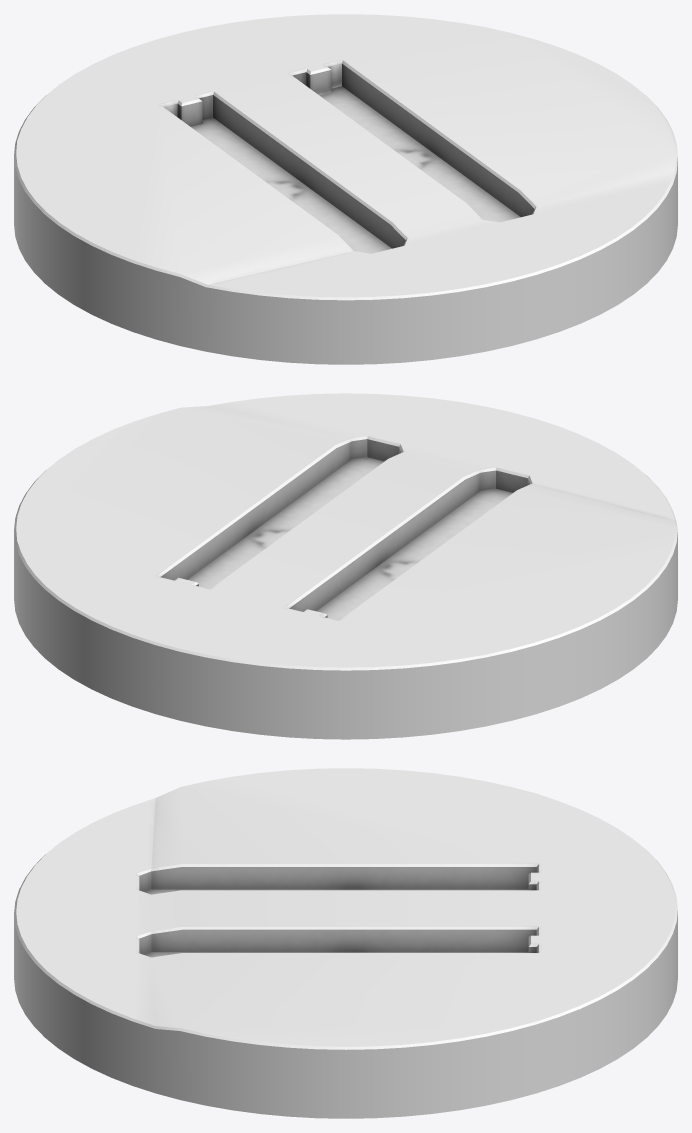
File: platform.FBX
3 renders of one model, top to bottom at view 1: azimuth 30°, elevation 25°; view 2: azimuth 150°, elevation 25°; view 3: azimuth 270°, elevation 25°, orthographic.
Parts seen in each view (by area): view 1: Object083; view 2: Object083; view 3: Object083.
Part boxes in pixels (bbox=[...]): Object083: bbox=[14, 14, 677, 364]; Object083: bbox=[14, 393, 677, 739]; Object083: bbox=[14, 768, 677, 1118].
Bounding box in the file's own units: 909 × 107 × 909.
Materials: 1 (1 with a texture image).
